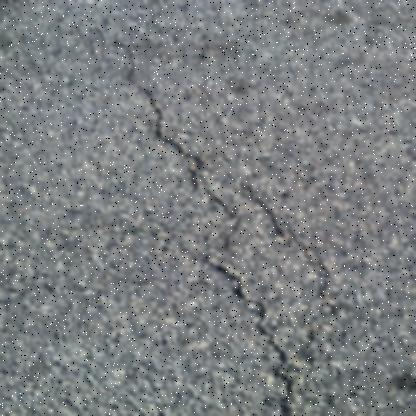Cracks: (114, 69, 339, 416)
